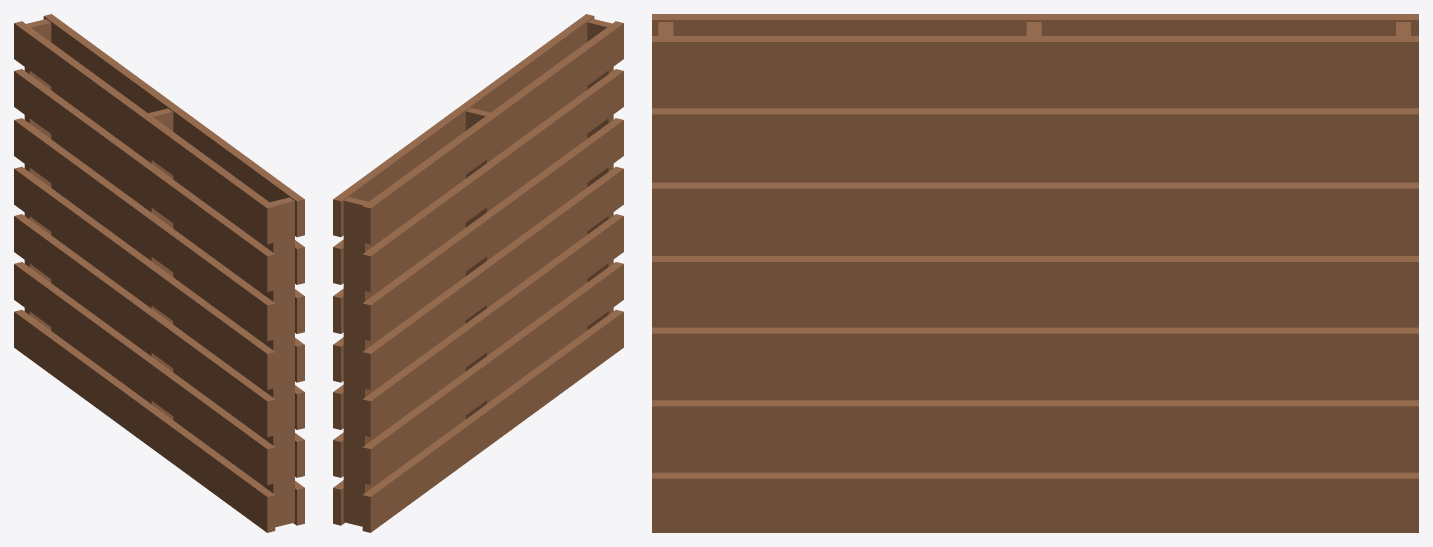
The model's file is hnagrao2.fbx.
3 views of the same model, side by side, from view 1: azimuth 30°, elevation 25°; view 2: azimuth 150°, elevation 25°; view 3: azimuth 270°, elevation 25° (orthographic). The views are drawn at different scales.
Visible parts, largest first — view 1: hnagrao2; view 2: hnagrao2; view 3: hnagrao2.
Boxes of the visible parts, bbox=[...] form: hnagrao2: bbox=[14, 14, 304, 532]; hnagrao2: bbox=[333, 14, 623, 532]; hnagrao2: bbox=[652, 14, 1418, 532].
Size of the model in its own units: 34.17 by 281 by 398.
